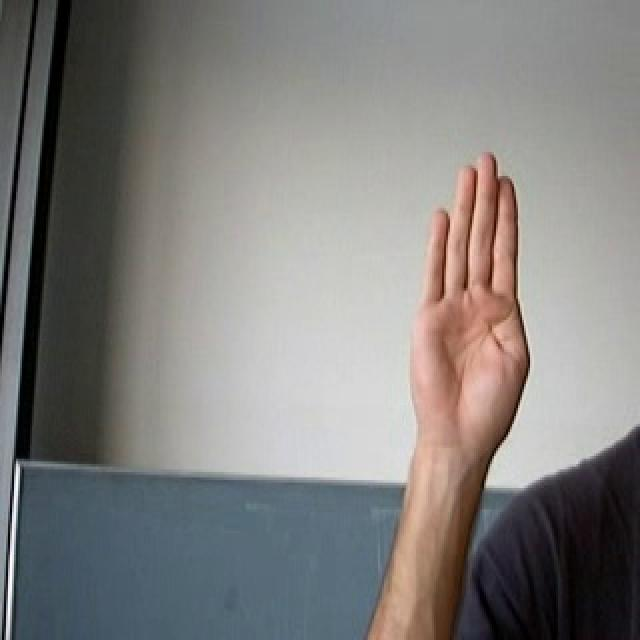B: (400, 134, 541, 491)
